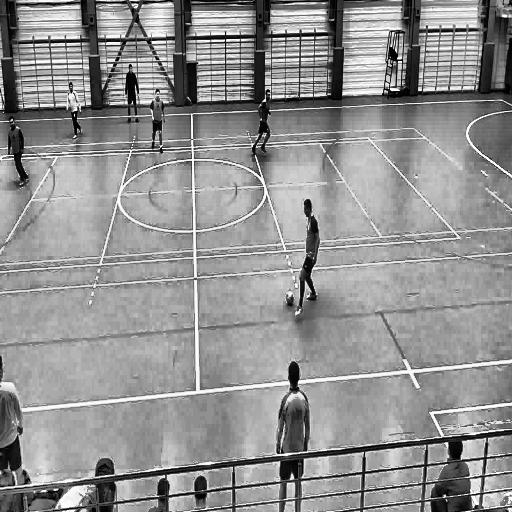ball: (284, 288, 296, 310)
player: (275, 360, 310, 512), (295, 198, 321, 324), (0, 350, 23, 483), (6, 115, 31, 191), (250, 89, 272, 160), (150, 86, 168, 156), (65, 81, 84, 142), (124, 64, 142, 125)
